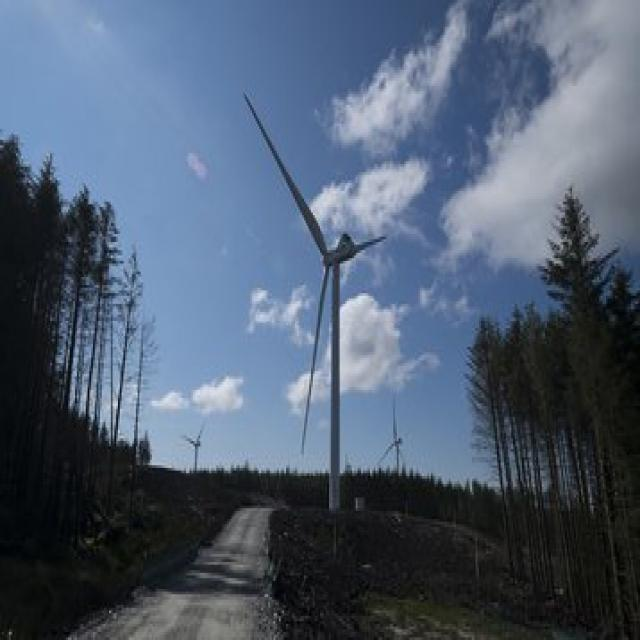solid-blade: (244, 95, 384, 512)
